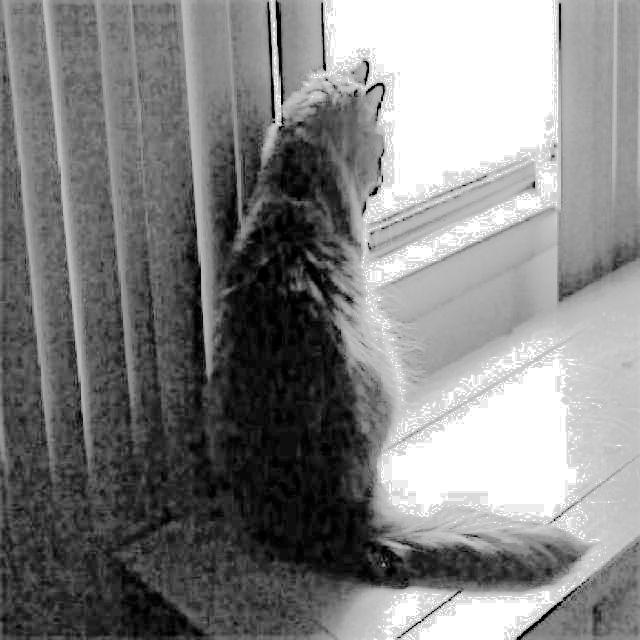Cat: (204, 52, 590, 591)
